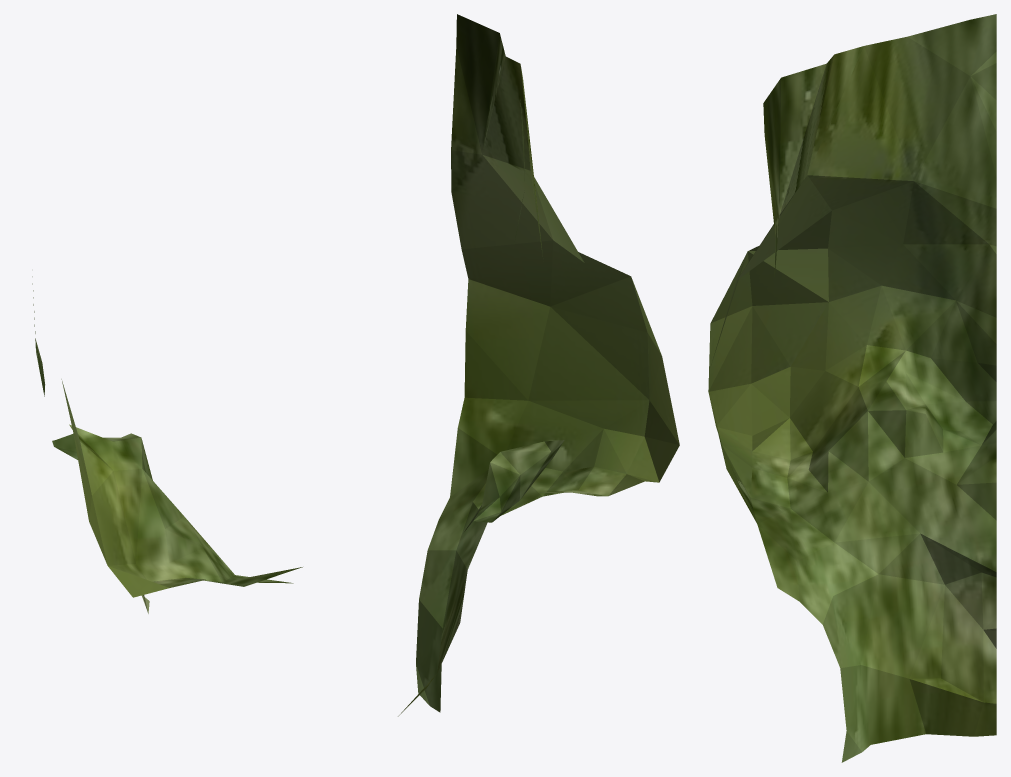
The picture shows the model from 3 angles, left to right: view 1: azimuth 30°, elevation 25°; view 2: azimuth 150°, elevation 25°; view 3: azimuth 270°, elevation 25°; orthographic projection. The views are drawn at different scales.
Size of the model in its own units: 1.03 by 2.95 by 1.17.
Materials: 2 (2 with a texture image).
